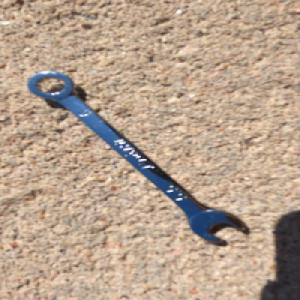Wrench: (26, 70, 249, 246)
